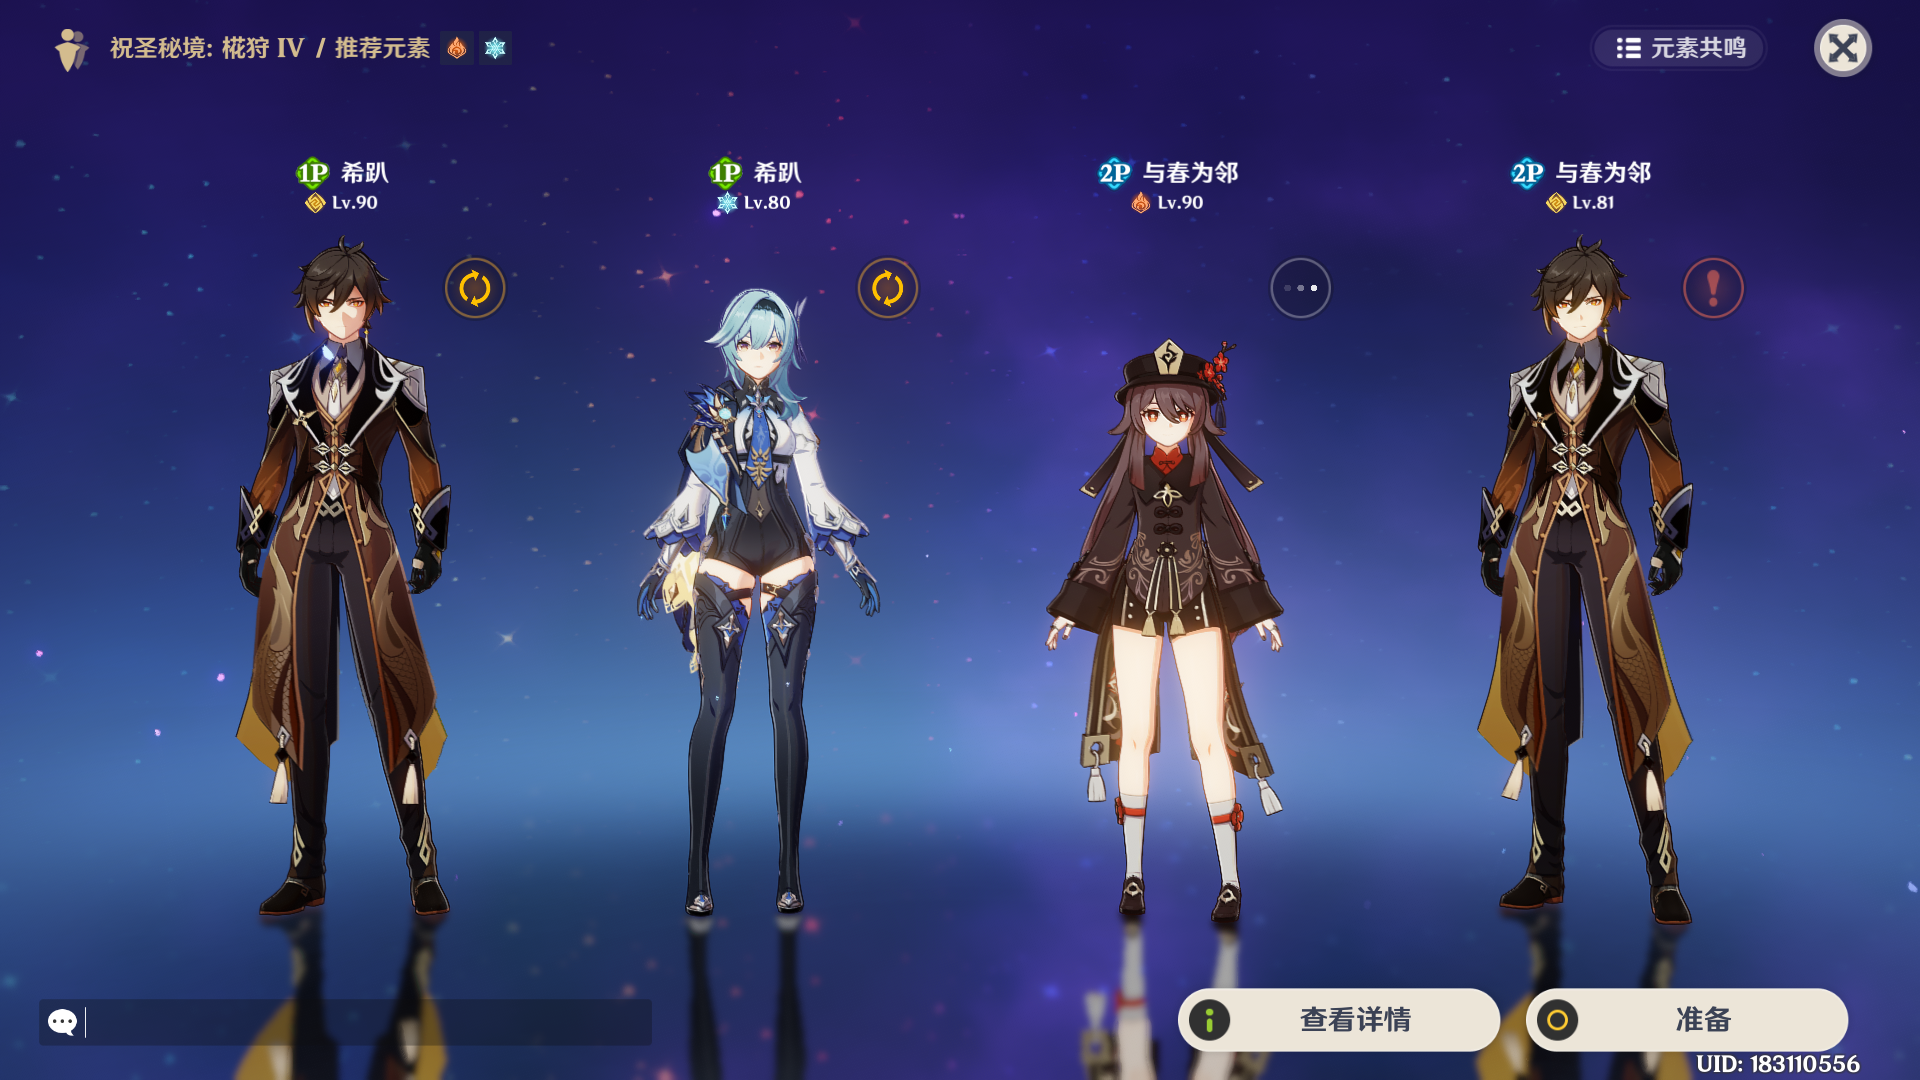character: (198, 210, 541, 938), (1433, 225, 1764, 955), (585, 248, 862, 949), (1011, 330, 1327, 942)
